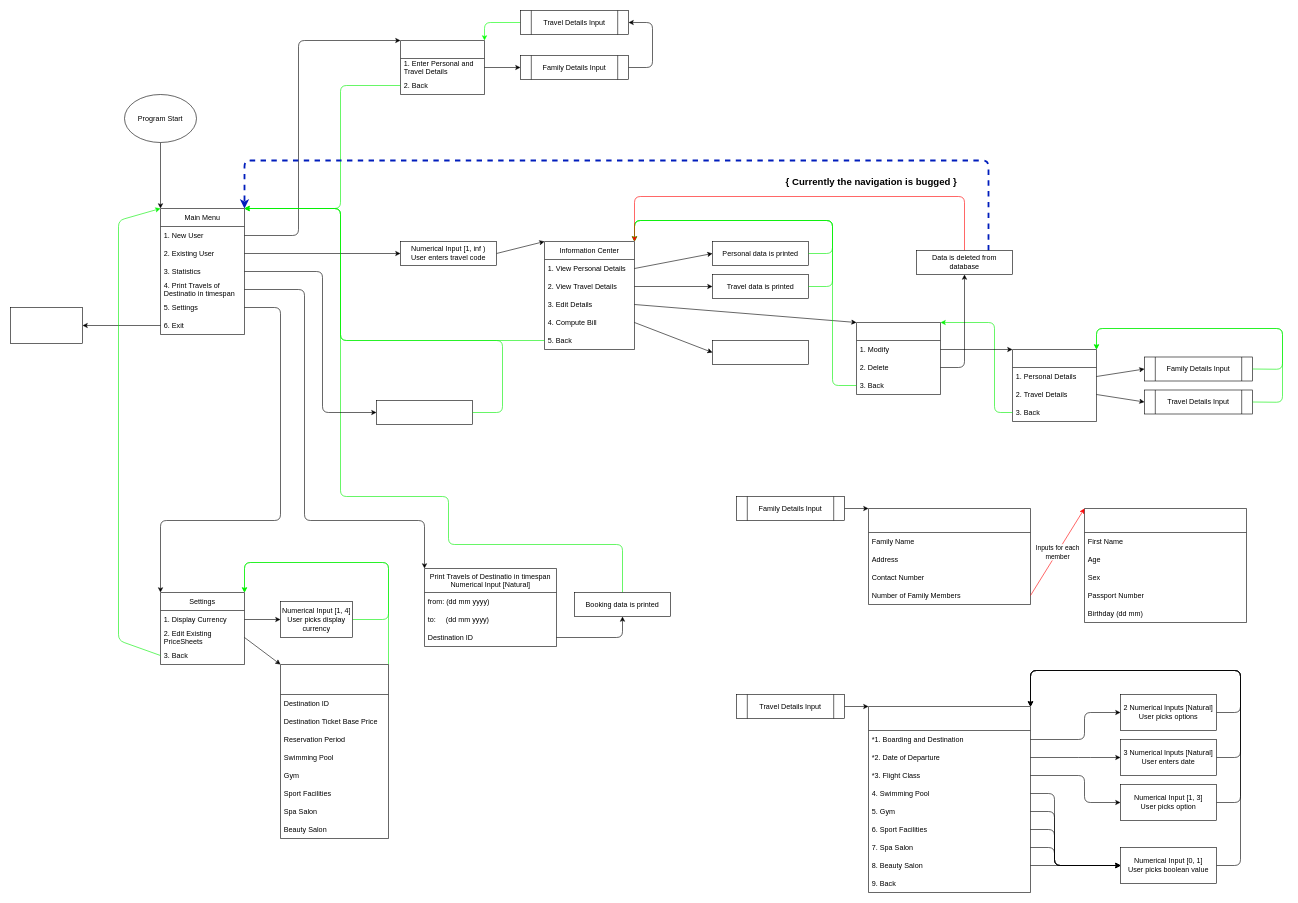
Some shapes in this 1298 by 903 pixel diagram are drawn without their labels. Each missing label, with the box of its shape:
8 Numerical Inputs [Natural] User edits pricesheet file by location id: (280, 664, 388, 838)
Billing data is printed: (712, 340, 808, 364)
Edit Details: (856, 322, 940, 394)
Family Details Numerical [Natural] and String [ASCII] Inputs: (868, 508, 1030, 604)
Modification: (1012, 349, 1096, 422)
New User: (400, 40, 484, 94)
Numerical [Natural] and String [ASCII] Inputs: (1084, 508, 1246, 622)
Save Files Exit Program: (10, 307, 82, 344)
Statistical data is printed: (376, 400, 472, 424)
Travel Details Numerical Inputs [1, 9]: (868, 706, 1030, 892)
